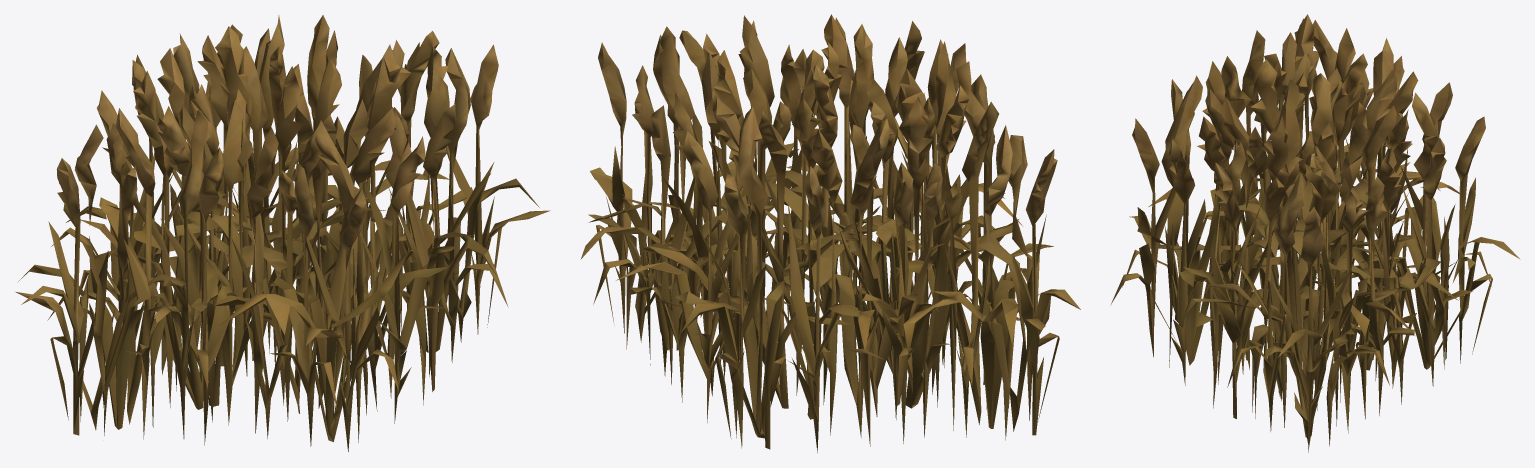
File: plant_wheat_pshenitsa_idle.glb
3 views of the same model, side by side, from view 1: azimuth 30°, elevation 25°; view 2: azimuth 150°, elevation 25°; view 3: azimuth 270°, elevation 25° (orthographic). The views are drawn at different scales.
Parts seen in each view (by area): view 1: tripo_node_c70e98b6-40dd-4bd7-8338-47c6777a7e48; view 2: tripo_node_c70e98b6-40dd-4bd7-8338-47c6777a7e48; view 3: tripo_node_c70e98b6-40dd-4bd7-8338-47c6777a7e48.
Boxes of the visible parts, bbox=[...] form: tripo_node_c70e98b6-40dd-4bd7-8338-47c6777a7e48: bbox=[15, 15, 550, 451]; tripo_node_c70e98b6-40dd-4bd7-8338-47c6777a7e48: bbox=[580, 14, 1080, 452]; tripo_node_c70e98b6-40dd-4bd7-8338-47c6777a7e48: bbox=[1111, 14, 1520, 452].
Bounding box in the file's own units: 1.18 × 0.7759 × 0.934.
Materials: 1 (1 with a texture image).
